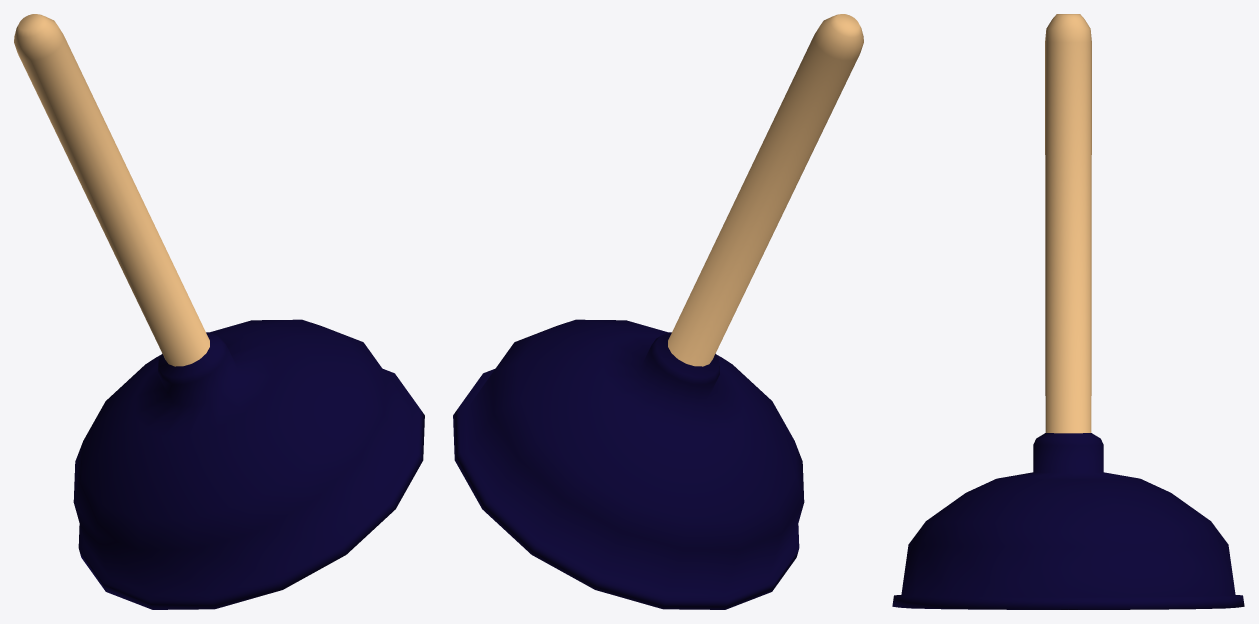
File: unclog.fbx
3 renders of one model, left to right at view 1: azimuth 30°, elevation 25°; view 2: azimuth 150°, elevation 25°; view 3: azimuth 270°, elevation 25°, orthographic. The views are drawn at different scales.
Visible parts, largest first — view 1: unclogger; view 2: unclogger; view 3: unclogger.
Part boxes in pixels (box(x1,y1,x2,y2)): unclogger: box(14, 14, 424, 609); unclogger: box(453, 14, 863, 609); unclogger: box(892, 14, 1244, 609).
Size of the model in its own units: 68.75 by 102 by 57.94.
